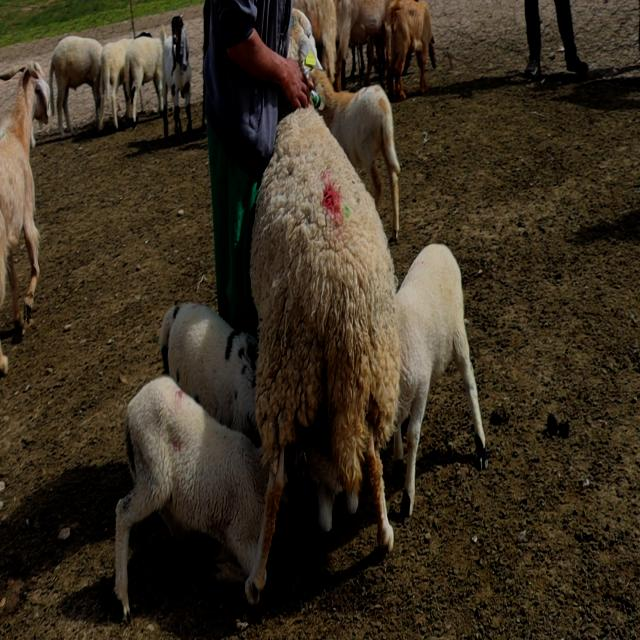Score_4: (243, 109, 402, 605)
